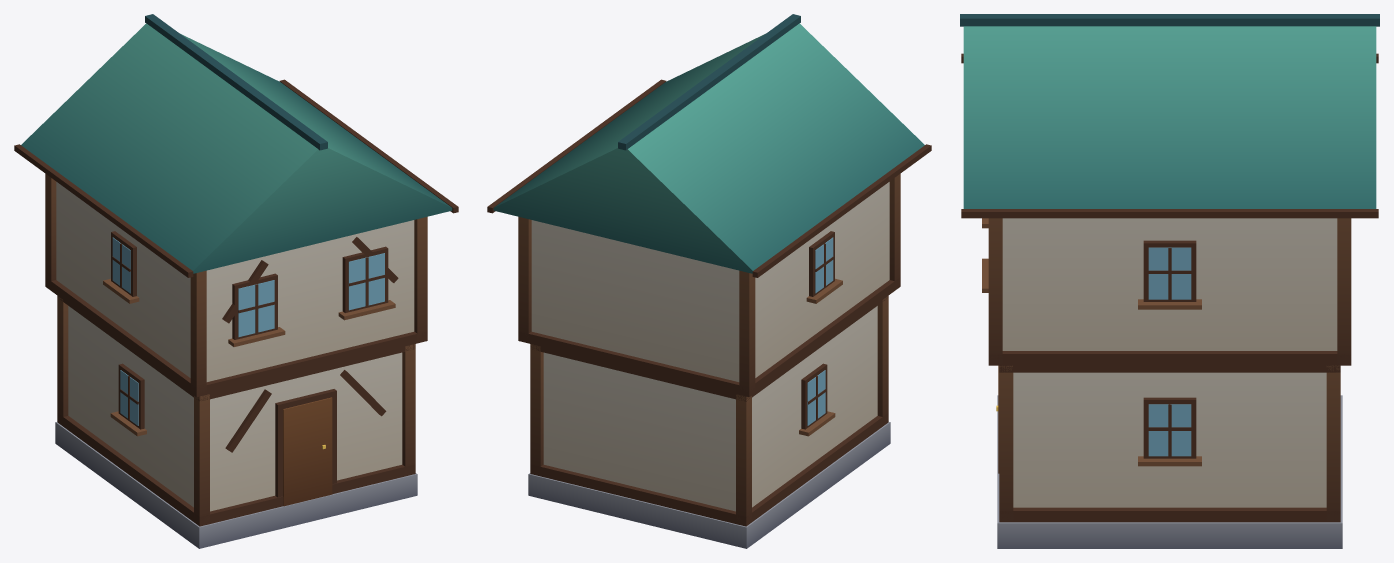
Rendered from house_town_teal.glb.
3 renders of one model, left to right at view 1: azimuth 30°, elevation 25°; view 2: azimuth 150°, elevation 25°; view 3: azimuth 270°, elevation 25°, orthographic. The views are drawn at different scales.
Visible parts, largest first — view 1: house_town_teal; view 2: house_town_teal; view 3: house_town_teal.
Boxes of the visible parts, bbox=[...] form: house_town_teal: bbox=[14, 14, 458, 548]; house_town_teal: bbox=[487, 14, 931, 548]; house_town_teal: bbox=[960, 14, 1379, 548].
Bounding box in the file's own units: 5.26 × 7.27 × 5.9.
